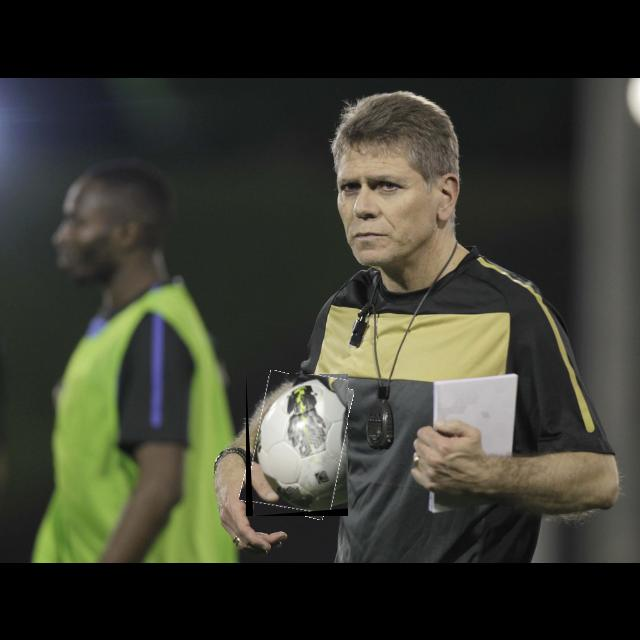Football: (246, 374, 348, 516)
